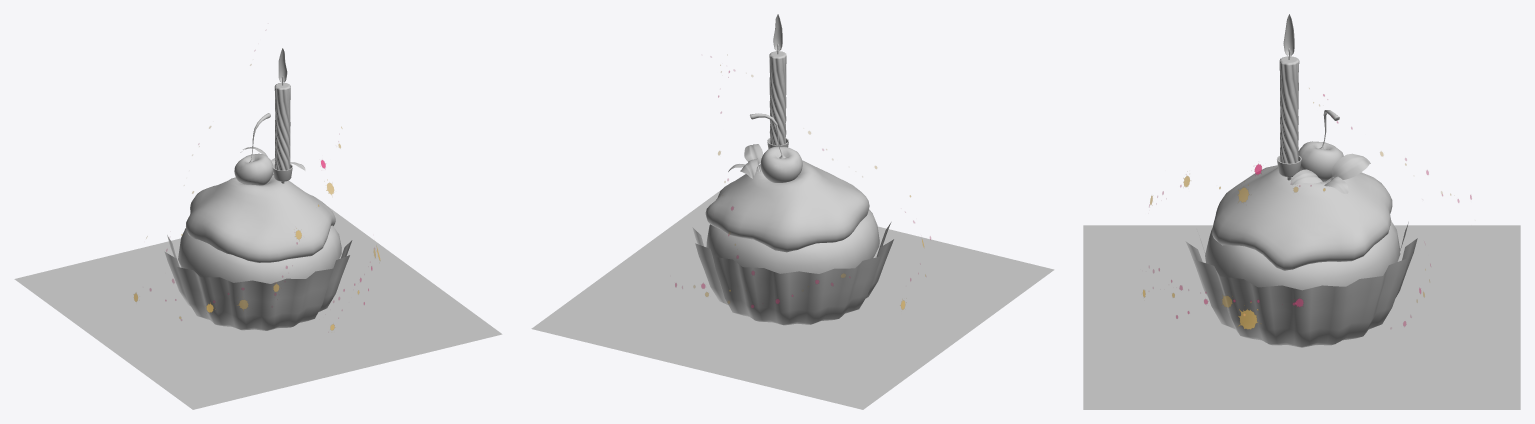
3 renders of one model, left to right at view 1: azimuth 30°, elevation 25°; view 2: azimuth 150°, elevation 25°; view 3: azimuth 270°, elevation 25°, orthographic. The views are drawn at different scales.
Parts seen in each view (by area): view 1: Ground_1, Cake_0, FX_2; view 2: Ground_1, Cake_0; view 3: Ground_1, Cake_0, FX_2.
Part boxes in pixels (x1,y1,x2,y2): Ground_1: [14, 206, 502, 409]; Cake_0: [164, 48, 352, 330]; FX_2: [133, 50, 380, 330]; Ground_1: [531, 189, 1054, 409]; Cake_0: [692, 14, 893, 325]; Ground_1: [1083, 225, 1520, 409]; Cake_0: [1185, 14, 1417, 347]; FX_2: [1143, 88, 1471, 329].
Size of the model in its own units: 0.2593 by 0.2066 by 0.2593.
